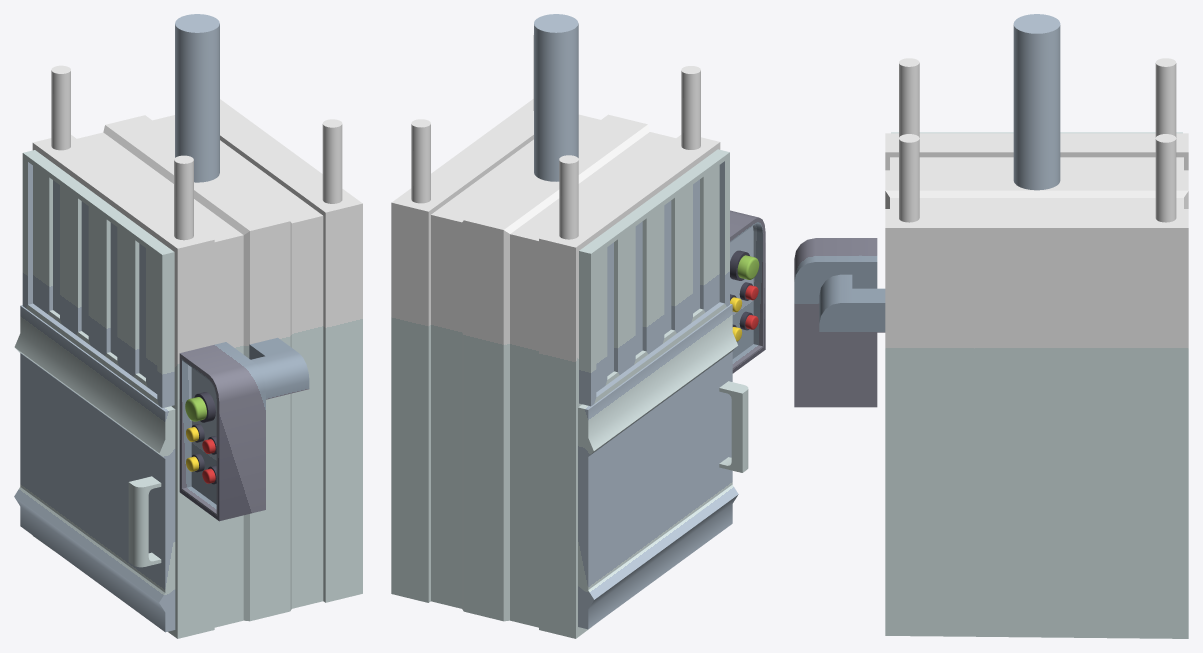
Rendered from maquinaFardo_Bl.fbx.
3 views of the same model, side by side, from view 1: azimuth 30°, elevation 25°; view 2: azimuth 150°, elevation 25°; view 3: azimuth 270°, elevation 25° (orthographic). The views are drawn at different scales.
Visible parts, largest first — view 1: maquinaFardo_Bl, puerta_Bl, puerta_Bl1, aplanadora_Bl; view 2: maquinaFardo_Bl, puerta_Bl, puerta_Bl1, aplanadora_Bl; view 3: maquinaFardo_Bl, aplanadora_Bl.
Boxes of the visible parts, left/top/right/bottom form: maquinaFardo_Bl: left=32, top=65, right=362, bottom=638; puerta_Bl: left=14, top=305, right=175, bottom=632; puerta_Bl1: left=22, top=150, right=174, bottom=408; aplanadora_Bl: left=175, top=14, right=219, bottom=182; maquinaFardo_Bl: left=391, top=33, right=765, bottom=638; puerta_Bl: left=578, top=303, right=748, bottom=629; puerta_Bl1: left=579, top=149, right=729, bottom=406; aplanadora_Bl: left=534, top=14, right=578, bottom=181; maquinaFardo_Bl: left=794, top=58, right=1188, bottom=638; aplanadora_Bl: left=1013, top=14, right=1060, bottom=190.
Bounding box in the file's own units: 251 × 589 × 371.
